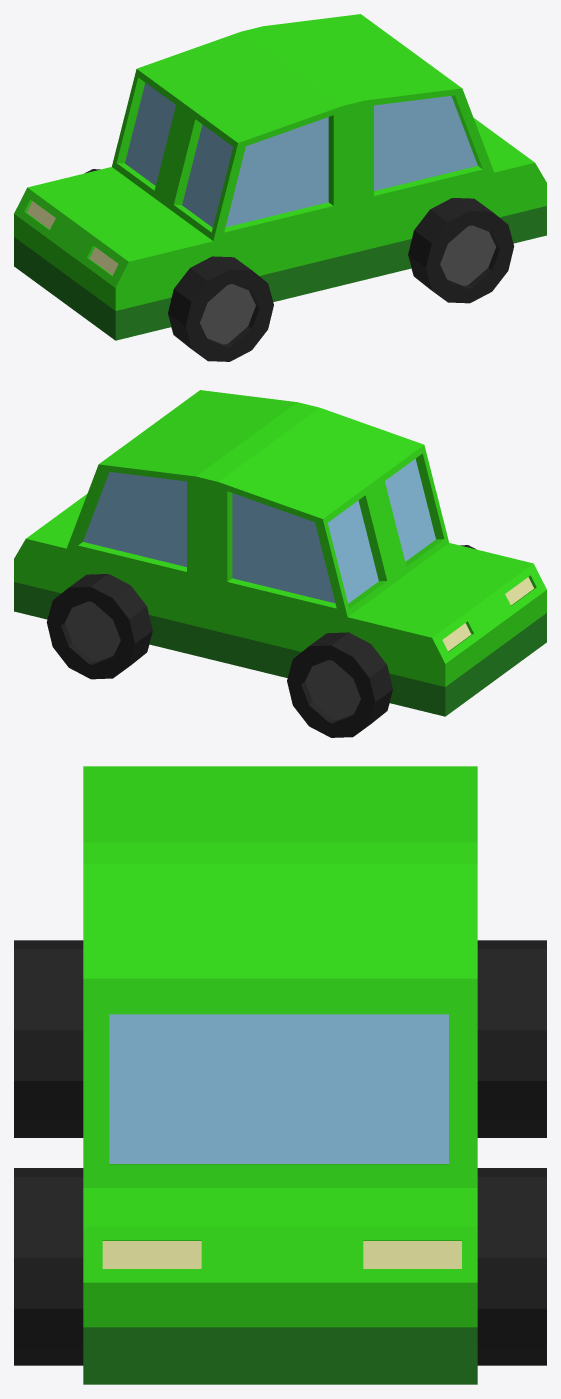
Rendered from CAR04_Model.fbx.
3 views of the same model, one above another, from view 1: azimuth 30°, elevation 25°; view 2: azimuth 150°, elevation 25°; view 3: azimuth 270°, elevation 25° (orthographic). The views are drawn at different scales.
Parts seen in each view (by area): view 1: CAR02.002, WHEELS.003; view 2: CAR02.002, WHEELS.003; view 3: CAR02.002, WHEELS.003.
Part boxes in pixels (left/top/right/bottom): CAR02.002: left=14, top=14, right=546, bottom=340; WHEELS.003: left=84, top=169, right=514, bottom=361; CAR02.002: left=14, top=390, right=546, bottom=716; WHEELS.003: left=46, top=545, right=476, bottom=737; CAR02.002: left=83, top=766, right=477, bottom=1384; WHEELS.003: left=14, top=940, right=546, bottom=1365.
Bounding box in the file's own units: 4.9 × 2.29 × 2.7.
